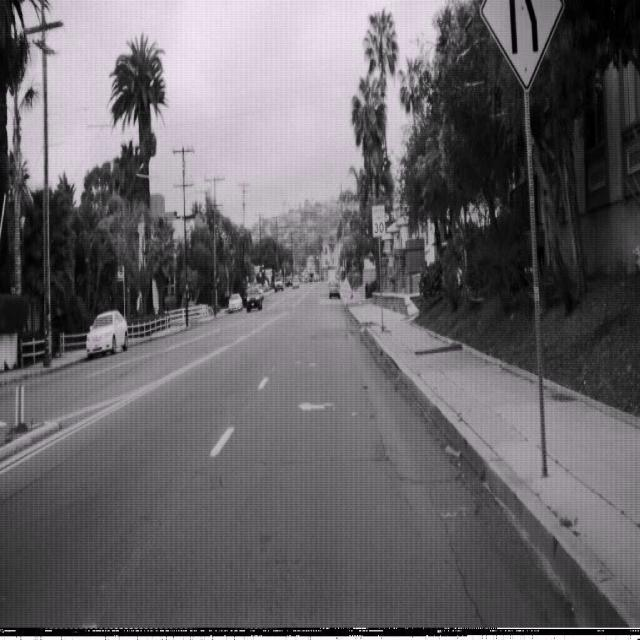speedLimit30: (371, 202, 386, 238)
